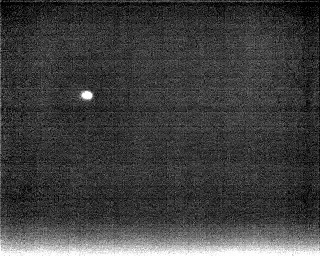AIRPLANE: (79, 88, 95, 103)
